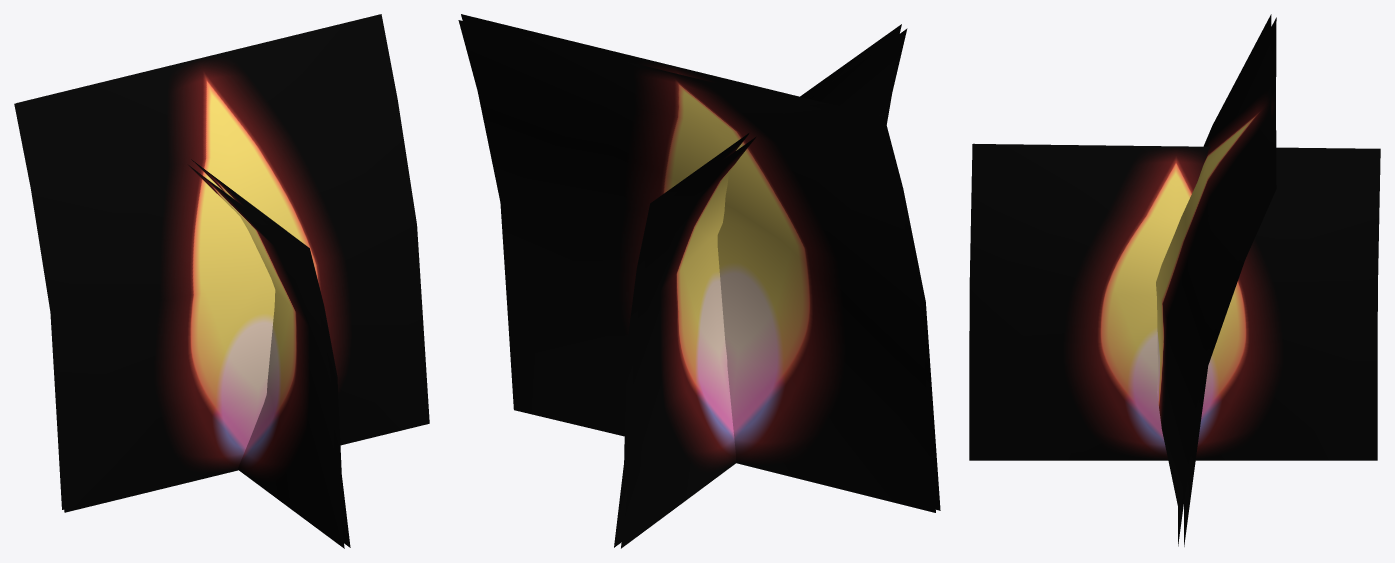
File: llama.fbx
3 views of the same model, side by side, from view 1: azimuth 30°, elevation 25°; view 2: azimuth 150°, elevation 25°; view 3: azimuth 270°, elevation 25° (orthographic). The views are drawn at different scales.
Parts seen in each view (by area): view 1: llama; view 2: llama; view 3: llama.
Boxes of the visible parts, bbox=[...] form: llama: bbox=[14, 14, 429, 548]; llama: bbox=[458, 14, 940, 548]; llama: bbox=[969, 14, 1380, 546].
Bounding box in the file's own units: 0.0656 × 0.0642 × 0.0661.
